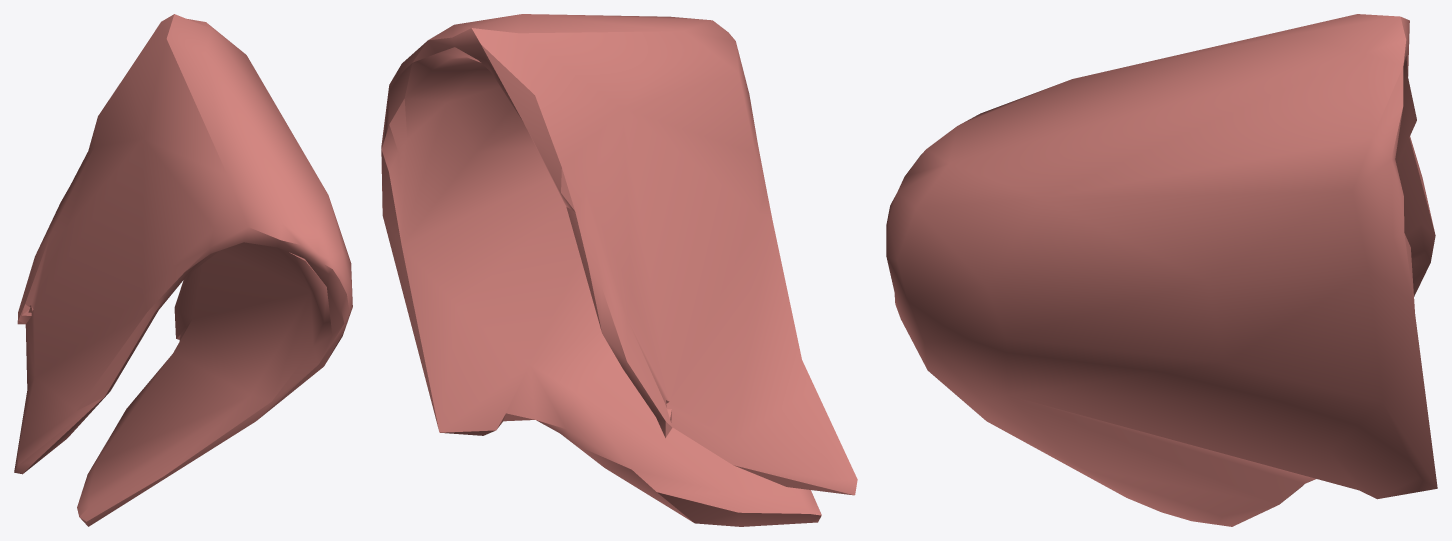
Rendered from fma46293_fj1560.glb.
3 renders of one model, left to right at view 1: azimuth 30°, elevation 25°; view 2: azimuth 150°, elevation 25°; view 3: azimuth 270°, elevation 25°, orthographic. The views are drawn at different scales.
Visible parts, largest first — view 1: FMA46293_FJ1560; view 2: FMA46293_FJ1560; view 3: FMA46293_FJ1560.
Part boxes in pixels (x1=…): FMA46293_FJ1560: x1=14, y1=14, x2=352, y2=526; FMA46293_FJ1560: x1=381, y1=14, x2=857, y2=526; FMA46293_FJ1560: x1=886, y1=14, x2=1437, y2=526.
Size of the model in its own units: 0.00622 by 0.00798 by 0.00652.
